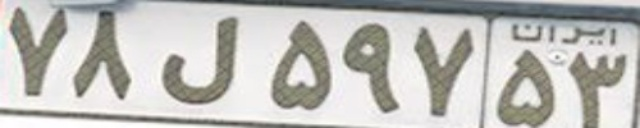3: (567, 50, 628, 127)
5: (269, 19, 332, 110), (496, 48, 554, 126)
7: (409, 25, 473, 116), (7, 6, 67, 99)
8: (73, 8, 132, 100)
9: (342, 20, 398, 113)
lam: (158, 16, 235, 105)
